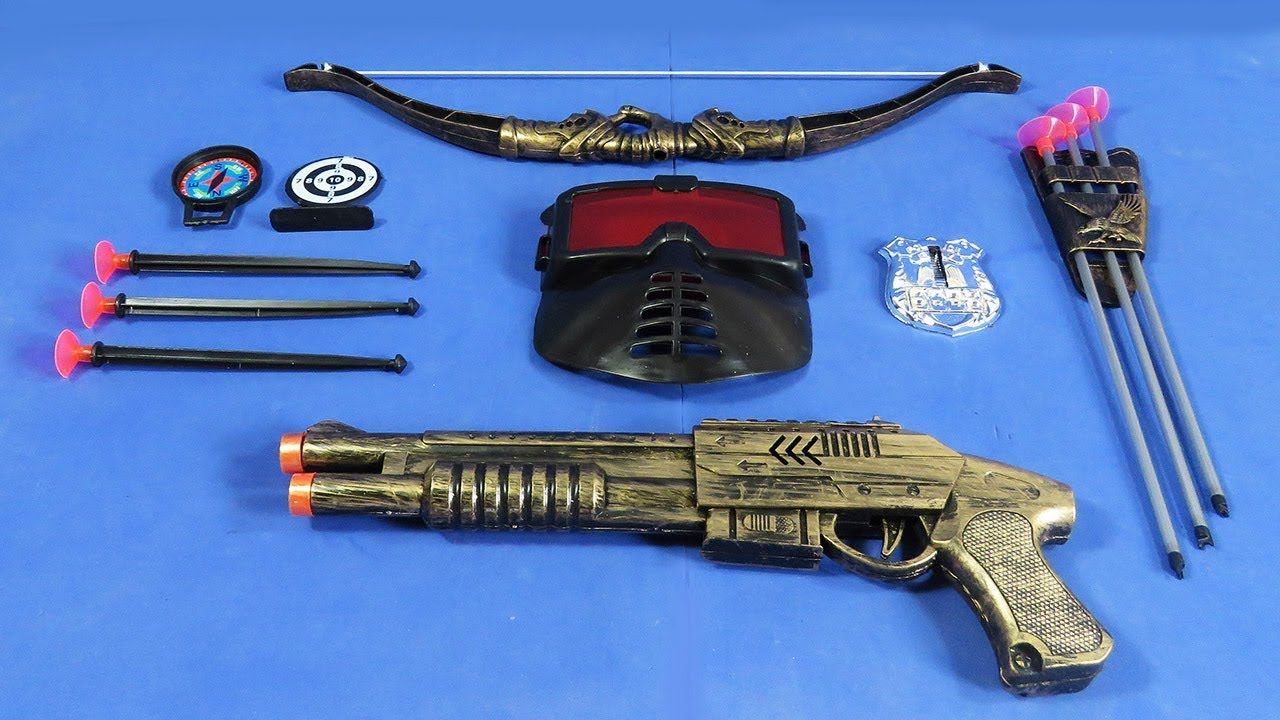Arma Falsa: (271, 416, 1131, 692)
